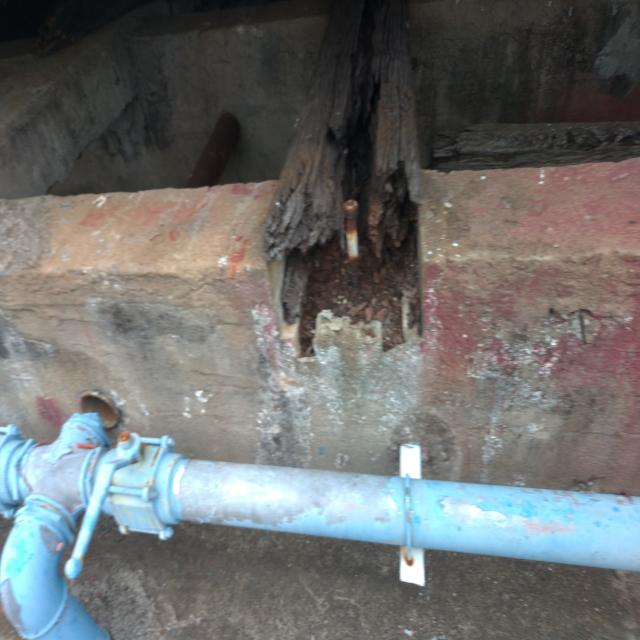gas: (8, 440, 638, 568), (0, 414, 113, 640)
